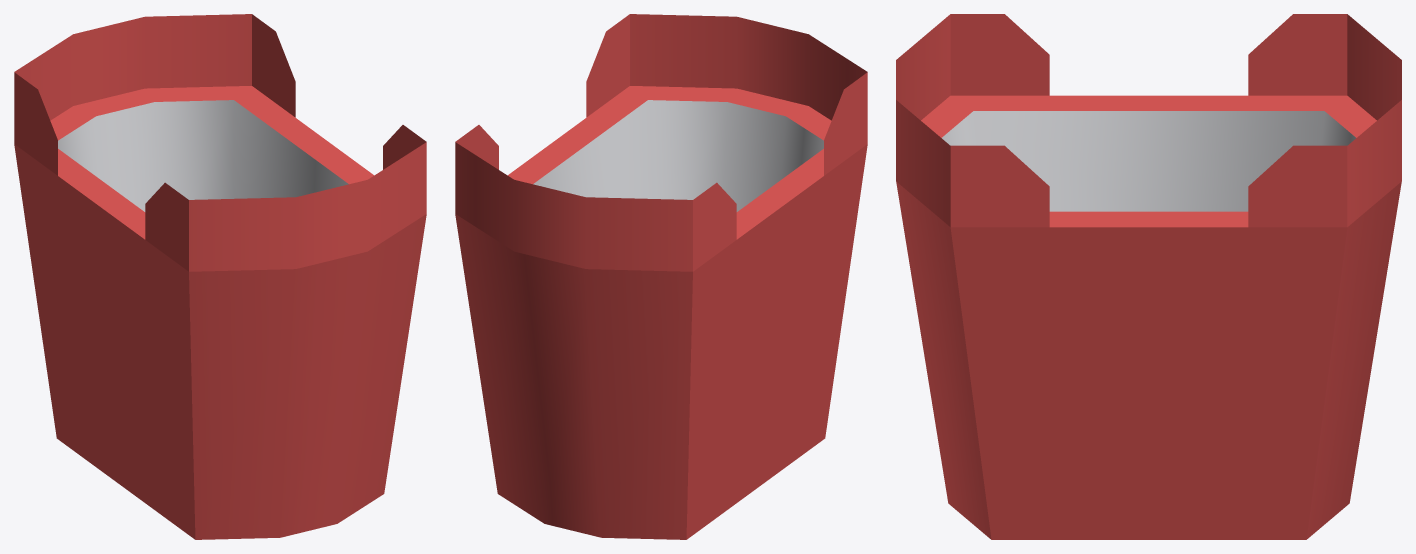
File: friesEmpty.fbx
3 views of the same model, side by side, from view 1: azimuth 30°, elevation 25°; view 2: azimuth 150°, elevation 25°; view 3: azimuth 270°, elevation 25° (orthographic). The views are drawn at different scales.
Parts seen in each view (by area): view 1: friesEmpty; view 2: friesEmpty; view 3: friesEmpty.
Part boxes in pixels (x1,y1,x2,y2): friesEmpty: [14, 14, 426, 539]; friesEmpty: [455, 14, 867, 539]; friesEmpty: [896, 14, 1401, 539].
Size of the model in its own units: 1.64 by 2.36 by 2.65.
